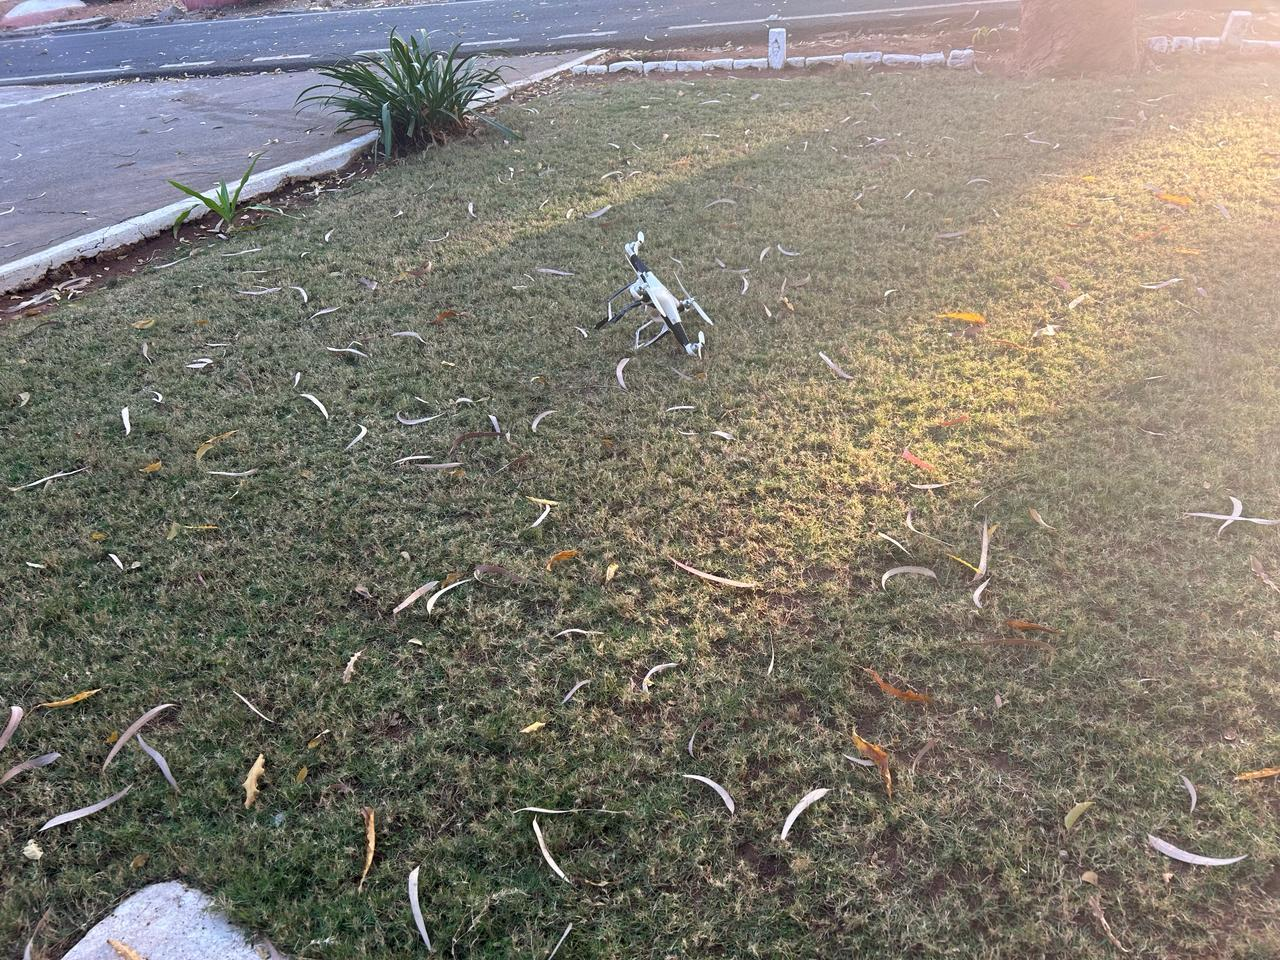drone: (562, 217, 752, 401)
